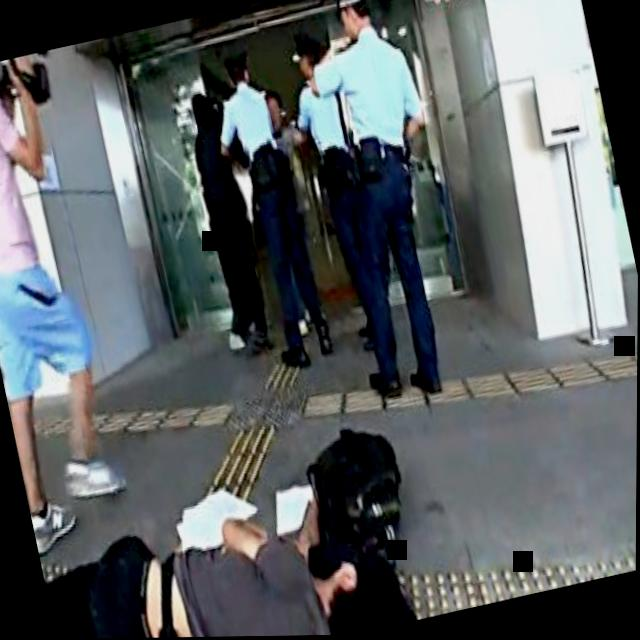Fall-Detected: (32, 454, 383, 640)
